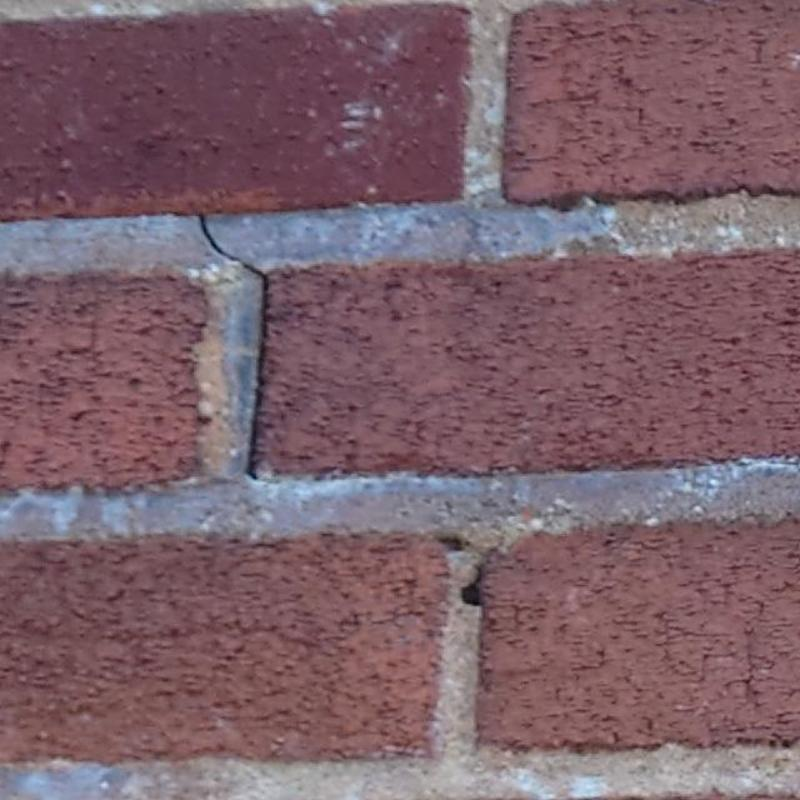pothole: (200, 215, 269, 481)
